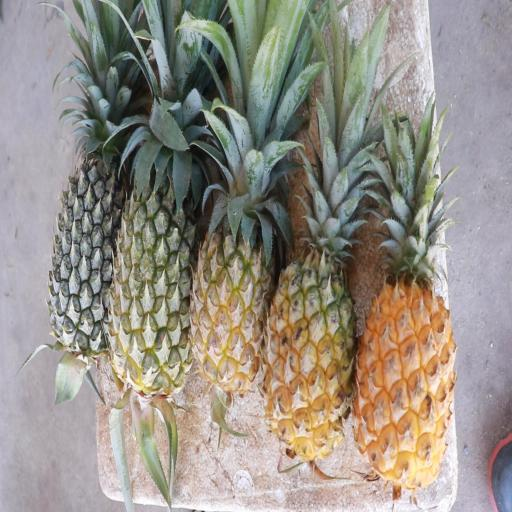------------------------------: (114, 113, 195, 394)
Pineapple - v8 v1: (356, 209, 450, 483), (266, 202, 356, 452), (192, 158, 278, 389)
